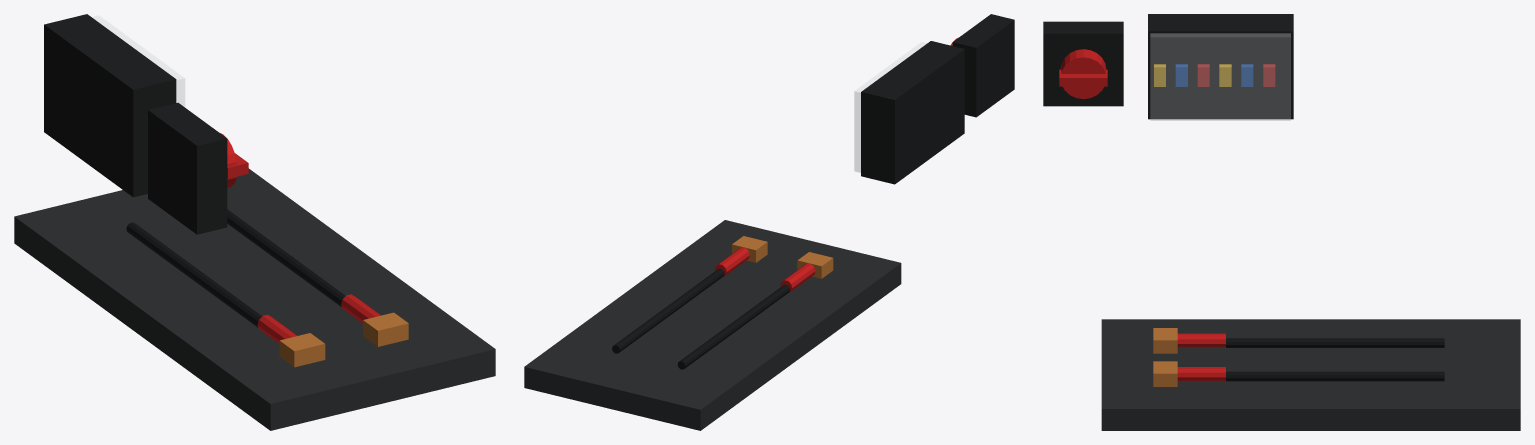
The picture shows the model from 3 angles, left to right: view 1: azimuth 30°, elevation 25°; view 2: azimuth 150°, elevation 25°; view 3: azimuth 270°, elevation 25°; orthographic projection. The views are drawn at different scales.
Visible parts, largest first — view 1: xs_el6_8_aft_bay_400_pad, xs_el6_8_aft_bay_400_wall; view 2: xs_el6_8_aft_bay_400_pad, xs_el6_8_aft_bay_400_wall; view 3: xs_el6_8_aft_bay_400_pad, xs_el6_8_aft_bay_400_wall.
Part boxes in pixels (bbox=[...]): xs_el6_8_aft_bay_400_pad: bbox=[14, 168, 495, 430]; xs_el6_8_aft_bay_400_wall: bbox=[44, 14, 248, 234]; xs_el6_8_aft_bay_400_pad: bbox=[524, 220, 901, 430]; xs_el6_8_aft_bay_400_wall: bbox=[854, 14, 1014, 184]; xs_el6_8_aft_bay_400_pad: bbox=[1101, 319, 1520, 430]; xs_el6_8_aft_bay_400_wall: bbox=[1043, 14, 1293, 120].
Size of the model in its own units: 0.2598 by 0.2579 by 0.393.
